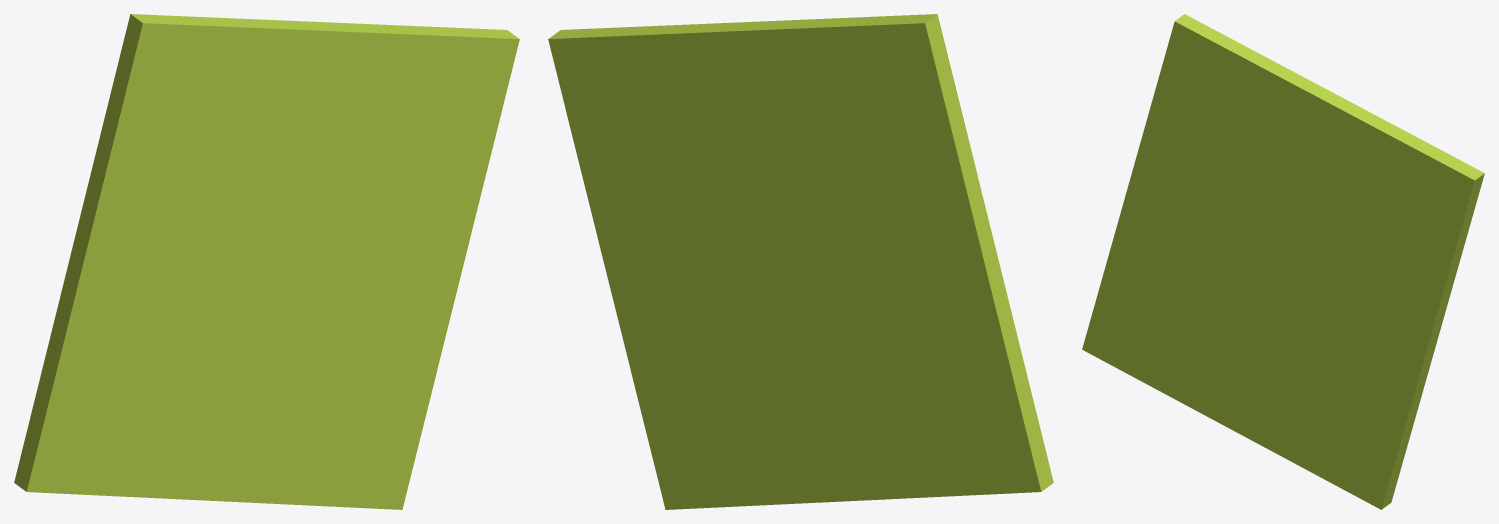
The picture shows the model from 3 angles, left to right: view 1: azimuth 30°, elevation 25°; view 2: azimuth 150°, elevation 25°; view 3: azimuth 330°, elevation 25°; orthographic projection. The views are drawn at different scales.
Parts seen in each view (by area): view 1: osm-way27917482-F-1; view 2: osm-way27917482-F-1; view 3: osm-way27917482-F-1.
Boxes of the visible parts, x1,y1,x2,y2 form: osm-way27917482-F-1: (14,14,519,509); osm-way27917482-F-1: (548,14,1053,509); osm-way27917482-F-1: (1082,14,1484,509).
Size of the model in its own units: 3.4 by 3.62 by 0.15.
